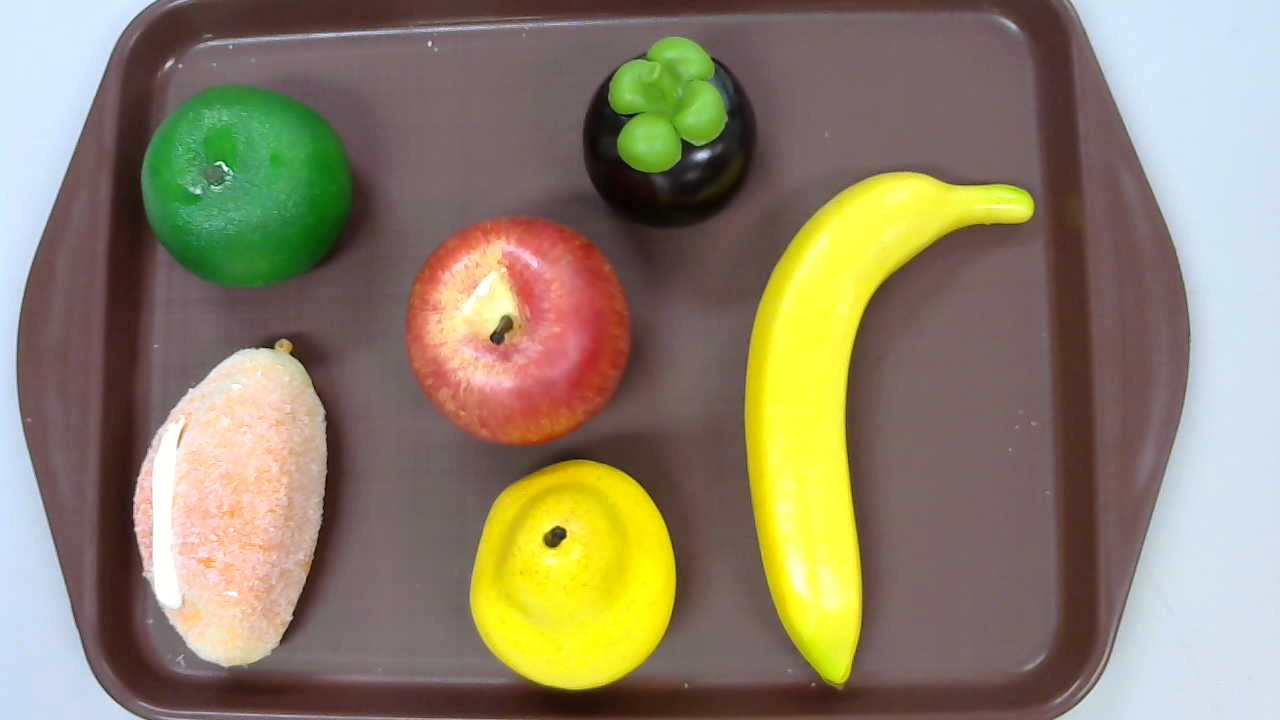banana: (743, 171, 1034, 689)
coconut: (131, 338, 328, 668)
green orange: (141, 84, 353, 291)
mangosteen: (584, 36, 757, 228)
red apple: (406, 216, 635, 448)
yellow pear: (468, 459, 676, 690)
